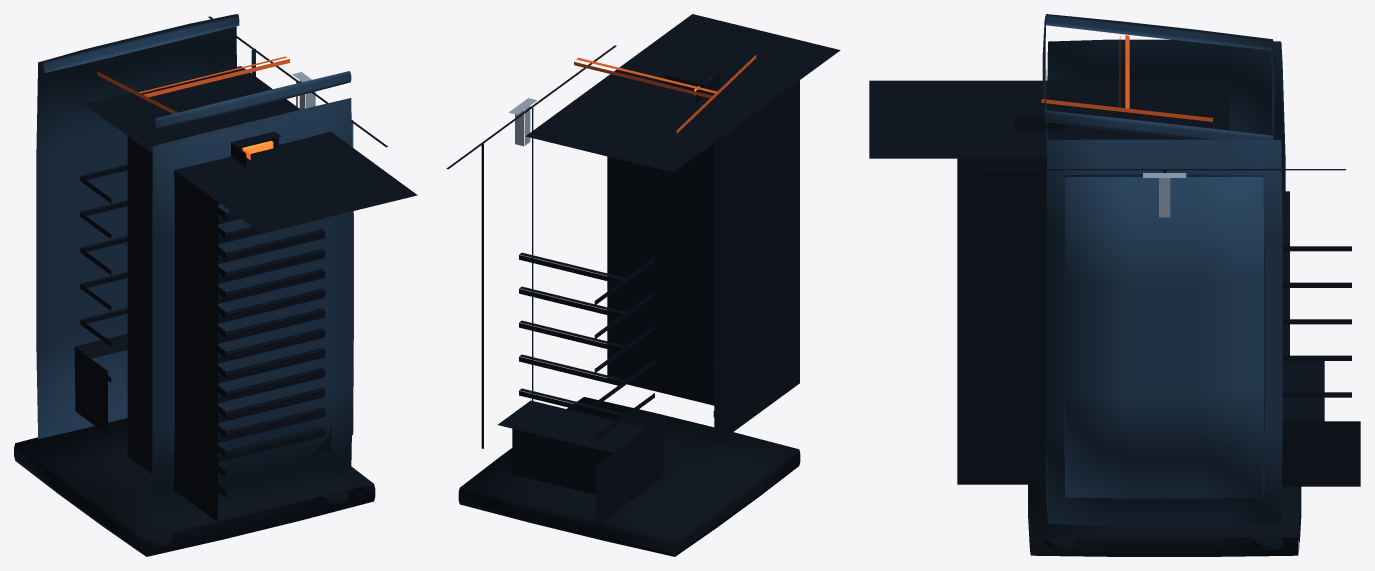
File: model-modern-06.glb
The picture shows the model from 3 angles, left to right: view 1: azimuth 30°, elevation 25°; view 2: azimuth 150°, elevation 25°; view 3: azimuth 270°, elevation 25°; orthographic projection. The views are drawn at different scales.
Visible parts, largest first — view 1: 机箱, 前面板饰框, 底座, 顶盖, 接口面板, 顶盖饰条, 散热格栅1, 散热格栅2, 散热格栅5, 散热格栅3, 散热格栅9, 散热格栅11 (+7 smaller); view 2: 前面板饰框, 底座, 接口面板, 侧板接缝, 顶盖饰条, 后部散热槽4, 后部散热槽5, 后部散热槽2, 后部散热槽3, 后部散热槽6, 指示灯槽, 侧板扣手; view 3: 可拆侧板, 前面板饰框, 机箱, 底座, 接口面板, 顶盖, 顶盖饰条, 指示灯槽, 后部散热槽6, 侧板接缝, 侧板扣手, 后部散热槽2 (+3 smaller).
Boxes of the visible parts, x1=… form: 机箱: x1=36, y1=14, x2=352, y2=522; 前面板饰框: x1=85, y1=66, x2=417, y2=521; 底座: x1=14, y1=418, x2=375, y2=556; 顶盖: x1=43, y1=14, x2=351, y2=129; 接口面板: x1=74, y1=333, x2=127, y2=434; 顶盖饰条: x1=97, y1=56, x2=289, y2=117; 散热格栅1: x1=218, y1=427, x2=325, y2=497; 散热格栅2: x1=218, y1=407, x2=325, y2=477; 散热格栅5: x1=218, y1=348, x2=325, y2=417; 散热格栅3: x1=218, y1=387, x2=325, y2=457; 散热格栅9: x1=218, y1=268, x2=325, y2=338; 散热格栅11: x1=218, y1=228, x2=325, y2=298; 前面板饰框: x1=525, y1=14, x2=840, y2=445; 底座: x1=458, y1=397, x2=800, y2=556; 接口面板: x1=497, y1=400, x2=663, y2=525; 侧板接缝: x1=446, y1=45, x2=616, y2=448; 顶盖饰条: x1=574, y1=55, x2=756, y2=133; 后部散热槽4: x1=519, y1=320, x2=654, y2=373; 后部散热槽5: x1=519, y1=286, x2=654, y2=339; 后部散热槽2: x1=519, y1=388, x2=654, y2=441; 后部散热槽3: x1=519, y1=354, x2=654, y2=407; 后部散热槽6: x1=519, y1=252, x2=654, y2=305; 指示灯槽: x1=662, y1=69, x2=719, y2=103; 侧板扣手: x1=508, y1=98, x2=537, y2=146; 可拆侧板: x1=1064, y1=174, x2=1265, y2=498; 前面板饰框: x1=869, y1=80, x2=1229, y2=484; 机箱: x1=1045, y1=39, x2=1285, y2=525; 底座: x1=1028, y1=484, x2=1301, y2=556; 接口面板: x1=1282, y1=361, x2=1360, y2=486; 顶盖: x1=1042, y1=14, x2=1274, y2=139; 顶盖饰条: x1=1041, y1=35, x2=1213, y2=121; 指示灯槽: x1=1015, y1=94, x2=1066, y2=130; 后部散热槽6: x1=1282, y1=191, x2=1351, y2=251; 侧板接缝: x1=983, y1=169, x2=1345, y2=499; 侧板扣手: x1=1143, y1=173, x2=1186, y2=217; 后部散热槽2: x1=1282, y1=361, x2=1351, y2=397.
Size of the model in its own units: 0.191 by 0.3375 by 0.341.
